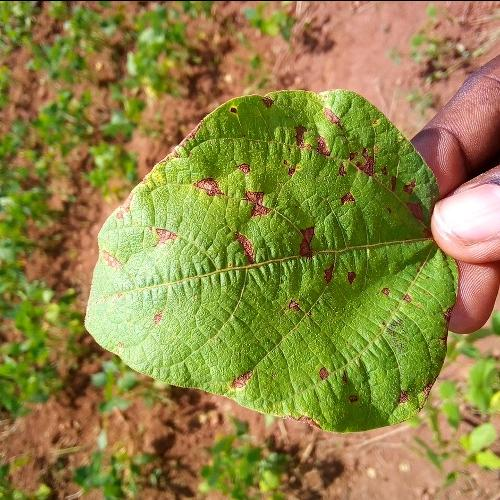embun tepung: (192, 146, 412, 390)
